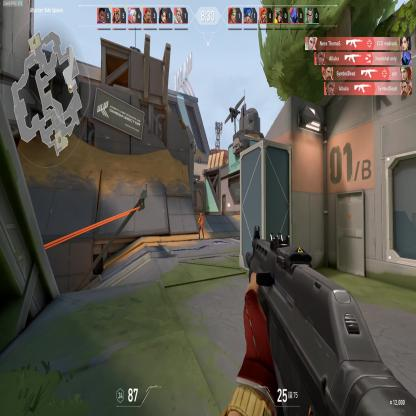enemy: (197, 211, 205, 240)
